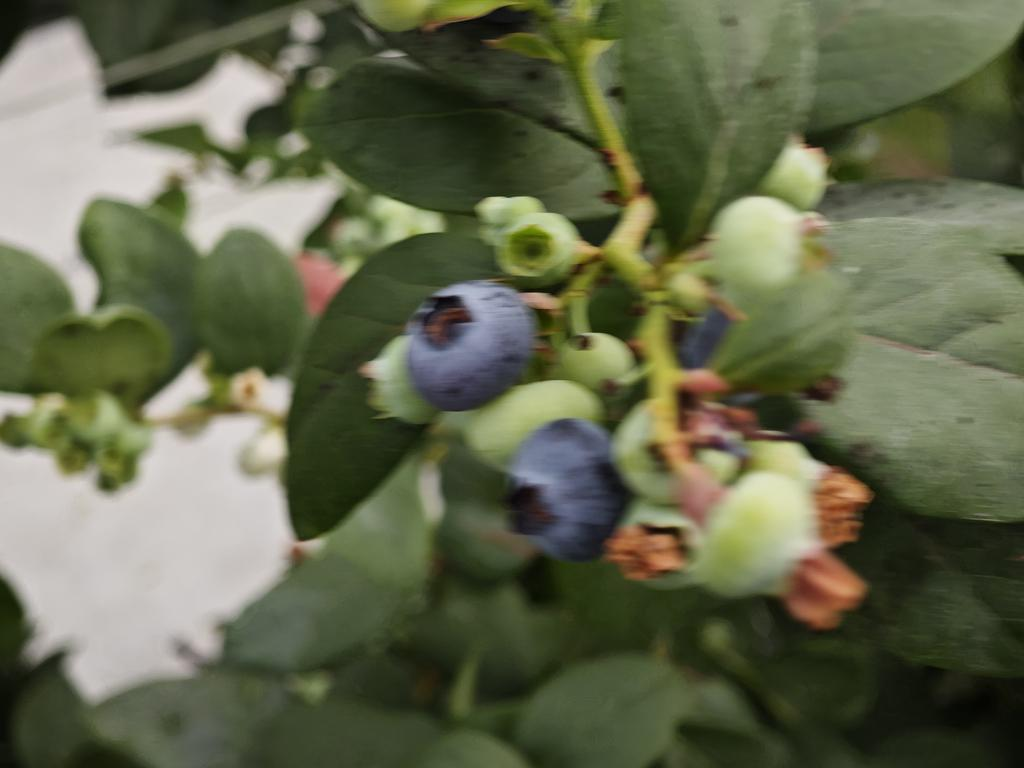RipeBlueBerry: (505, 419, 624, 563), (409, 280, 532, 410)
